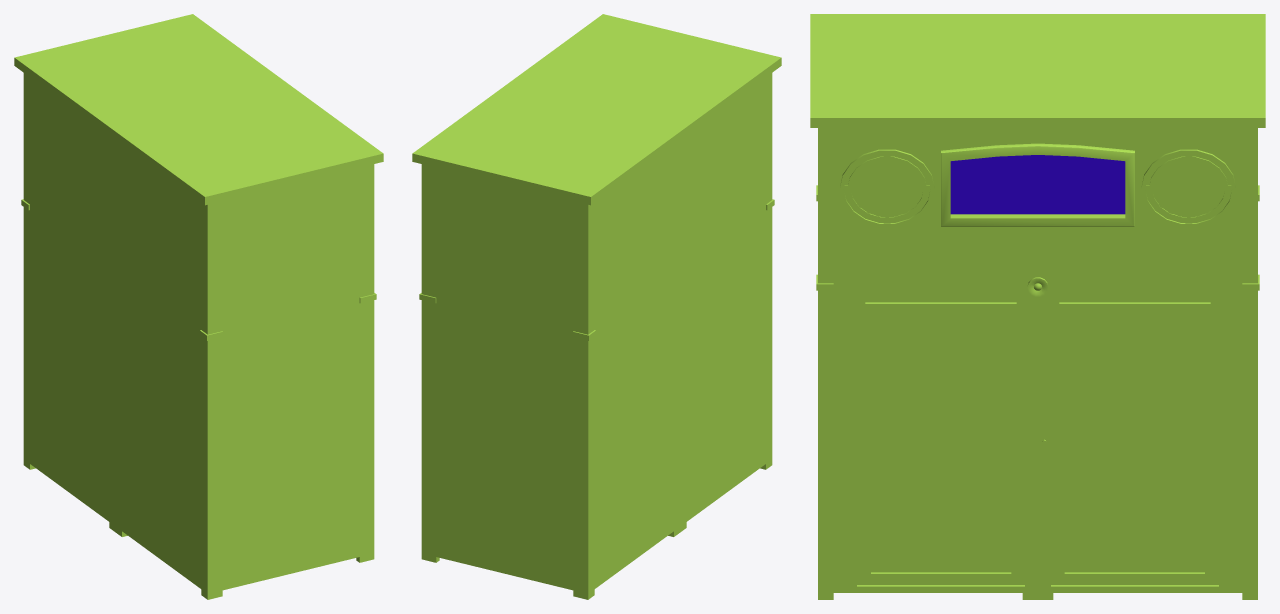
Rendered from JukeBox.fbx.
3 views of the same model, side by side, from view 1: azimuth 30°, elevation 25°; view 2: azimuth 150°, elevation 25°; view 3: azimuth 270°, elevation 25° (orthographic). The views are drawn at different scales.
Visible parts, largest first — view 1: Cube; view 2: Cube; view 3: Cube.
Part boxes in pixels (x1,y1,x2,y2): Cube: (14,14,383,599); Cube: (412,14,781,599); Cube: (810,14,1265,599).
Size of the model in its own units: 72.04 by 157 by 133.
